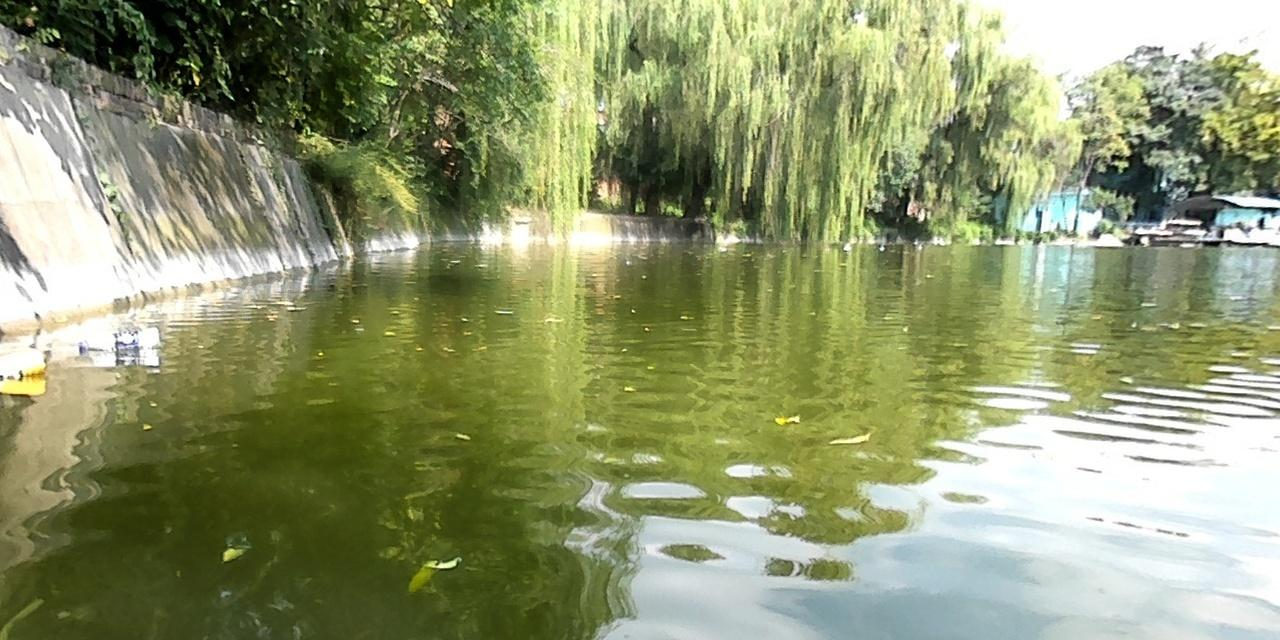bottle: (78, 325, 159, 351)
